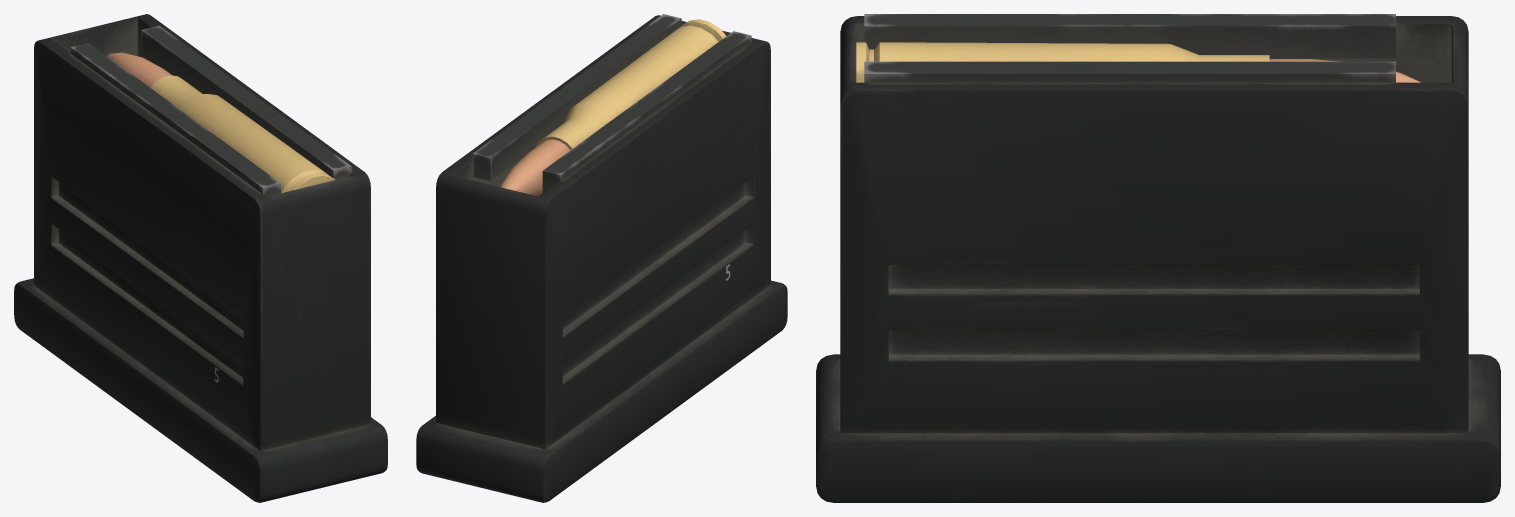
The model's file is carregador_308_5.glb.
The picture shows the model from 3 angles, left to right: view 1: azimuth 30°, elevation 25°; view 2: azimuth 150°, elevation 25°; view 3: azimuth 270°, elevation 25°; orthographic projection. The views are drawn at different scales.
Visible parts, largest first — view 1: carregador_308_5_carregador; view 2: carregador_308_5_carregador; view 3: carregador_308_5_carregador.
Boxes of the visible parts, box(x1,y1,x2,y2) form: carregador_308_5_carregador: box(14, 14, 387, 502); carregador_308_5_carregador: box(416, 14, 787, 502); carregador_308_5_carregador: box(816, 14, 1500, 502).
Size of the model in its own units: 0.0258 by 0.0573 by 0.085.
1 material, 1 textured.
